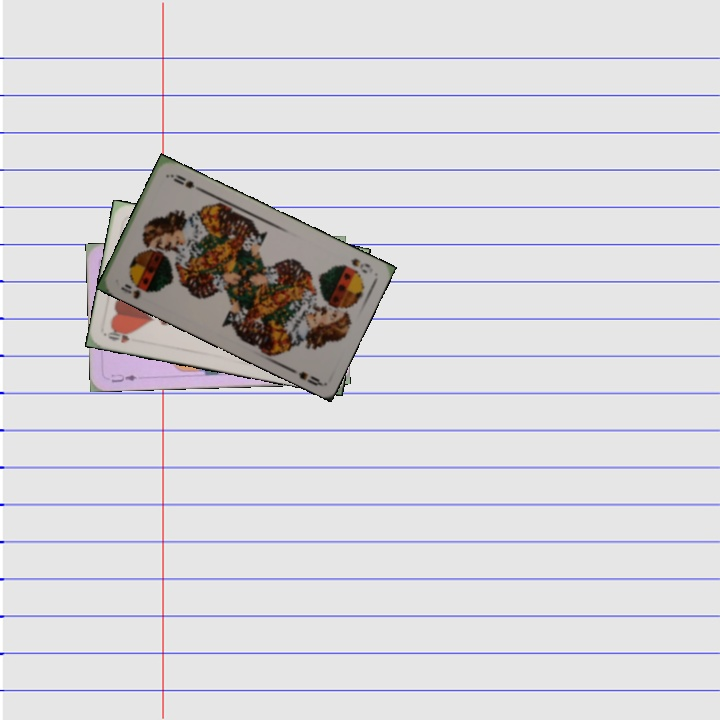EU: (108, 370, 140, 385)
HO: (103, 326, 134, 346)
SO: (347, 254, 373, 276), (117, 280, 143, 301)
